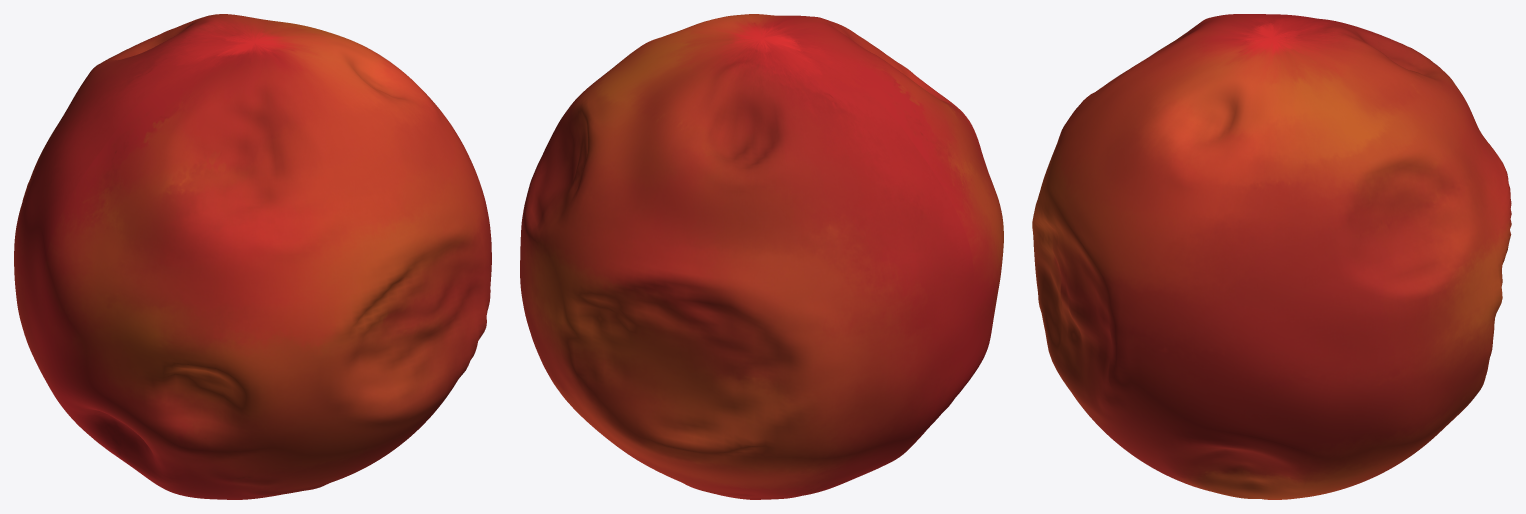
Rendered from mars_test.fbx.
3 views of the same model, side by side, from view 1: azimuth 30°, elevation 25°; view 2: azimuth 150°, elevation 25°; view 3: azimuth 270°, elevation 25° (orthographic).
Parts seen in each view (by area): view 1: Sphere; view 2: Sphere; view 3: Sphere.
Boxes of the visible parts, <box> form: Sphere: <box>14,14,491,499</box>; Sphere: <box>520,14,1003,499</box>; Sphere: <box>1032,14,1511,499</box>.
Size of the model in its own units: 204 by 202 by 198.
